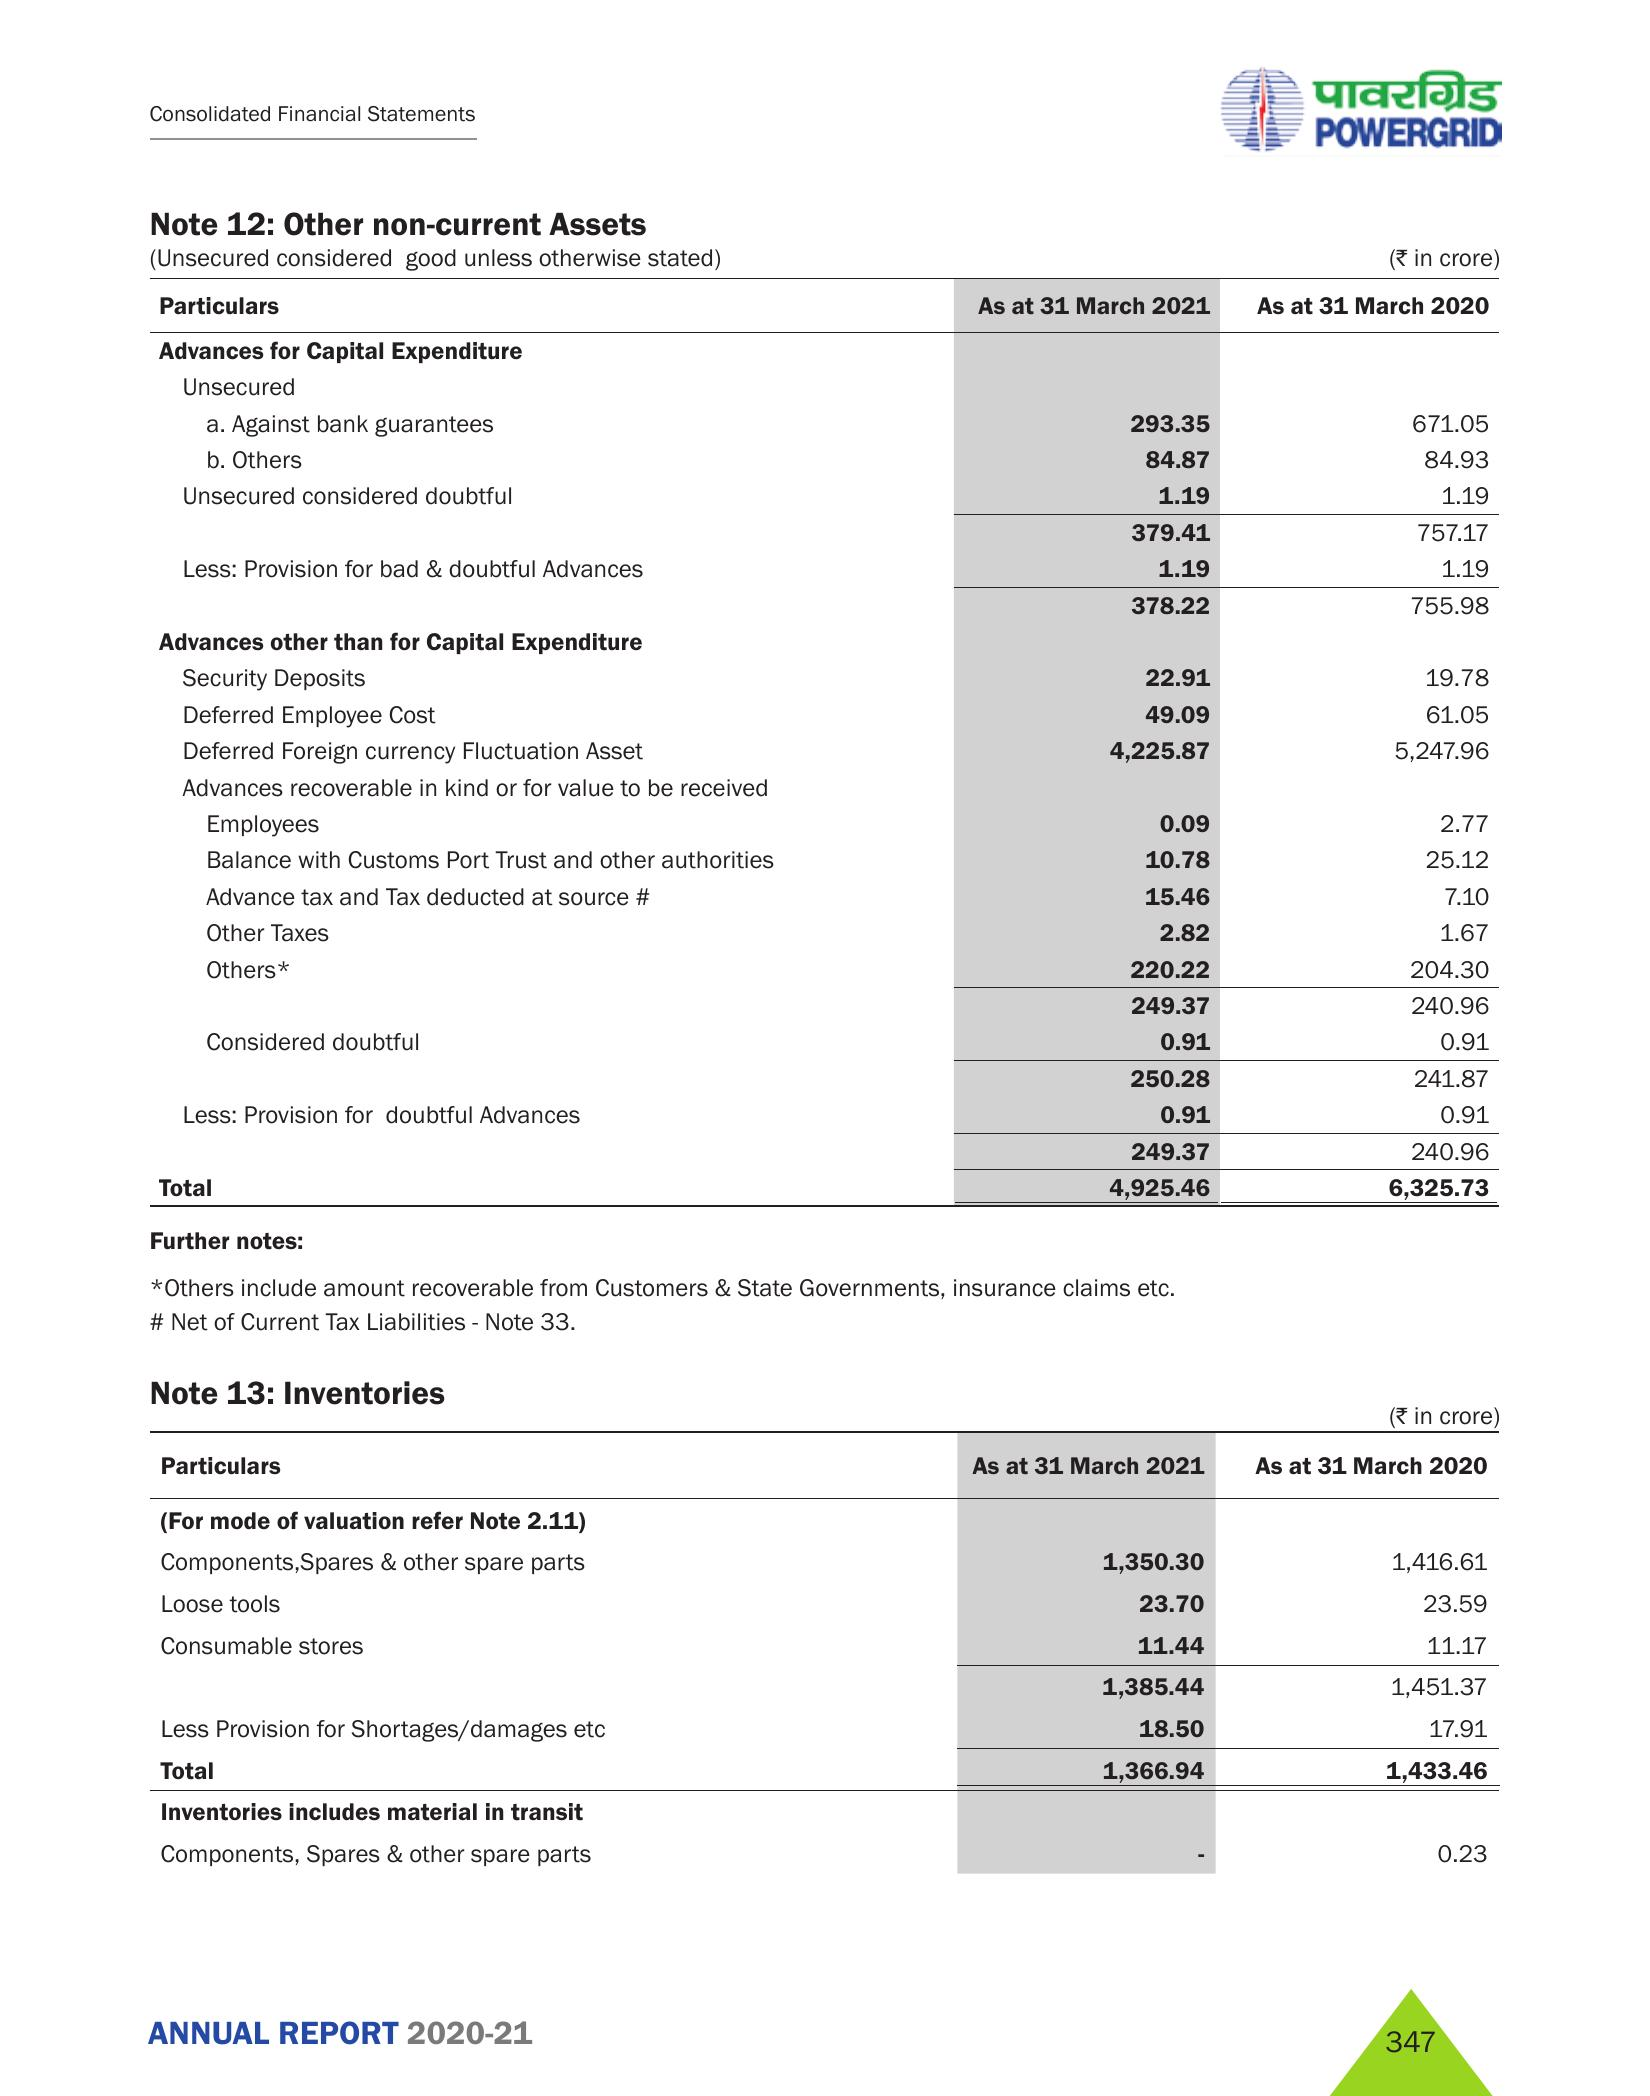Footer: (0, 1956, 1650, 2096)
Header: (0, 0, 1650, 175)
Table: (105, 277, 1551, 1210), (134, 1426, 1539, 1871)
